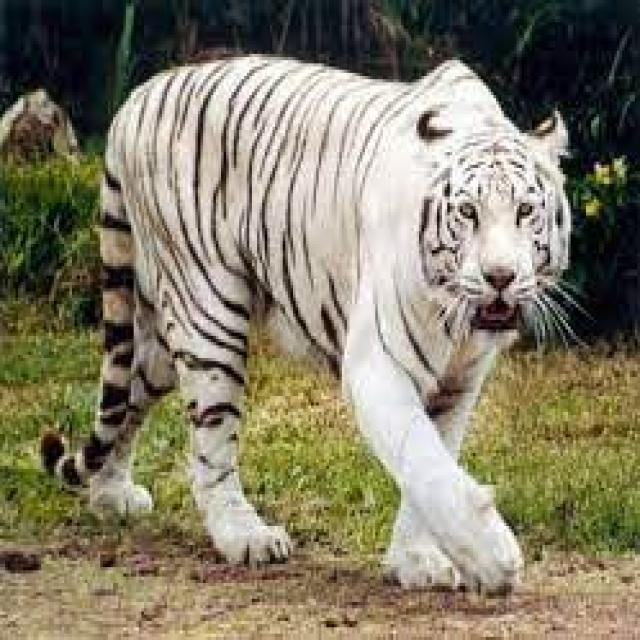Carnivorous: (41, 54, 576, 592)
